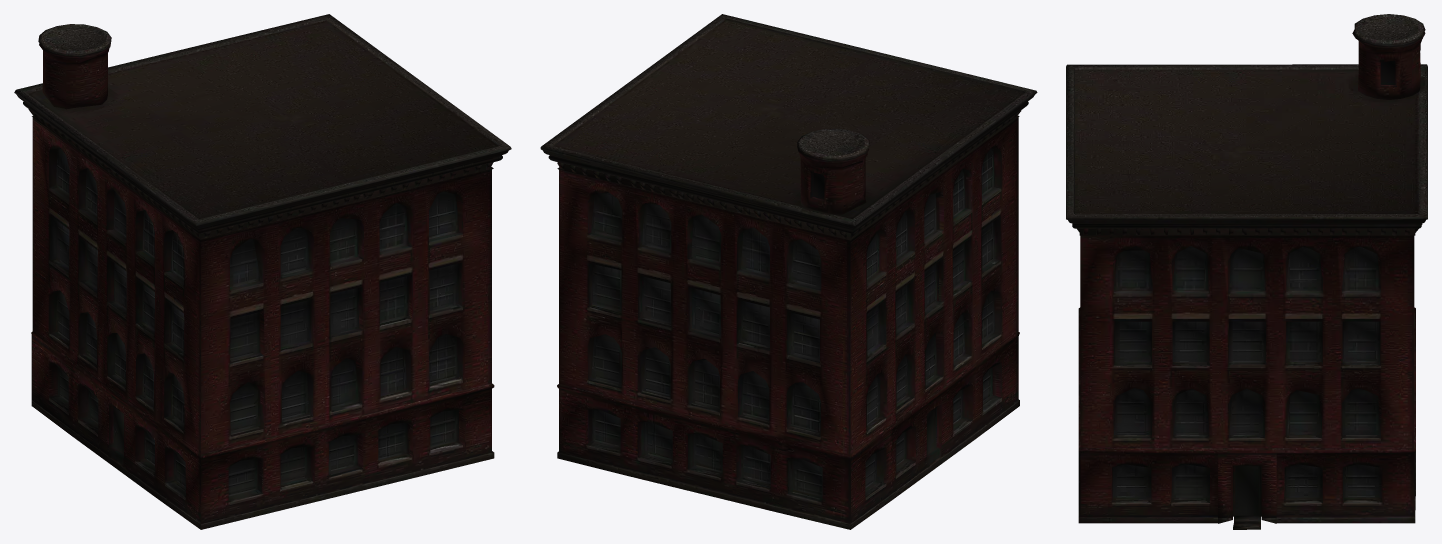
The model's file is brick_mill.glb.
The picture shows the model from 3 angles, left to right: view 1: azimuth 30°, elevation 25°; view 2: azimuth 150°, elevation 25°; view 3: azimuth 270°, elevation 25°; orthographic projection.
Parts seen in each view (by area): view 1: brick_mill; view 2: brick_mill; view 3: brick_mill.
Boxes of the visible parts, x1,y1,x2,y2 form: brick_mill: (14, 14, 511, 529); brick_mill: (540, 14, 1037, 529); brick_mill: (1066, 14, 1427, 529).
Size of the model in its own units: 13.47 by 15 by 13.36.
Materials: 1 (1 with a texture image).
